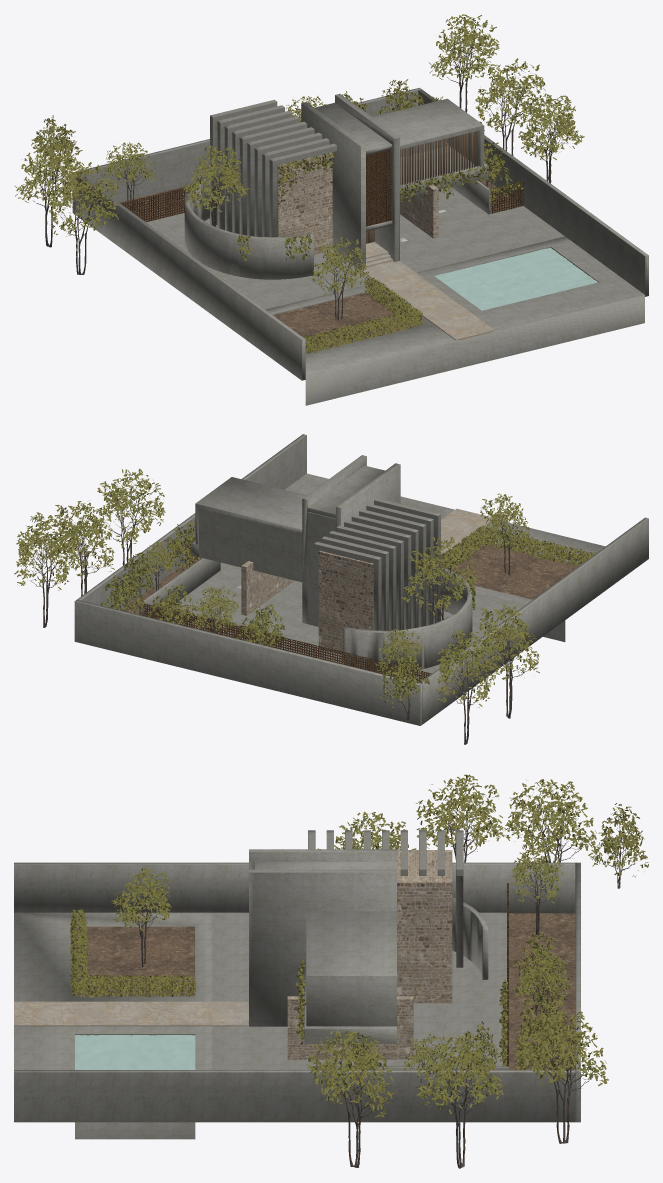
File: villa-ring.glb
3 views of the same model, one above another, from view 1: azimuth 30°, elevation 25°; view 2: azimuth 150°, elevation 25°; view 3: azimuth 270°, elevation 25° (orthographic). The views are drawn at different scales.
Parts seen in each view (by area): view 1: Layer:max10, Plane001, Shape020, Shape024, Layer:max01, Plane002, Layer:max05, Layer:max07, Object042, Prunus maritima_1_vray011, Prunus maritima_1_vray004, Prunus maritima_1_vray005 (+28 smaller); view 2: Layer:max10, Shape020, Layer:max01, Shape002, Layer:max05, Shape024, Object042, Layer:max07, Plane001, Prunus maritima_1_vray003, Prunus maritima_1_vray005, Prunus maritima_1_vray002 (+29 smaller); view 3: Layer:max10, Plane001, Shape024, Shape020, Layer:max07, Layer:max05, Line001, Object042, Prunus maritima_1_vray005, Prunus maritima_1_vray009, Prunus maritima_1_vray004, Plane002 (+23 smaller).
Boxes of the visible parts, bbox=[...] form: Layer:max10: bbox=[72, 87, 648, 380]; Plane001: bbox=[266, 236, 644, 405]; Shape020: bbox=[146, 187, 564, 309]; Shape024: bbox=[301, 94, 399, 270]; Layer:max01: bbox=[184, 176, 313, 279]; Plane002: bbox=[434, 247, 597, 310]; Layer:max05: bbox=[277, 152, 332, 255]; Layer:max07: bbox=[372, 98, 484, 166]; Object042: bbox=[273, 291, 416, 353]; Prunus maritima_1_vray011: bbox=[48, 162, 118, 274]; Prunus maritima_1_vray004: bbox=[475, 58, 545, 155]; Prunus maritima_1_vray005: bbox=[428, 14, 499, 112]; Layer:max10: bbox=[74, 434, 648, 725]; Shape020: bbox=[157, 556, 525, 681]; Layer:max01: bbox=[343, 566, 472, 672]; Shape002: bbox=[199, 508, 302, 582]; Layer:max05: bbox=[318, 550, 373, 653]; Shape024: bbox=[302, 455, 400, 623]; Object042: bbox=[450, 543, 579, 599]; Layer:max07: bbox=[195, 477, 306, 544]; Plane001: bbox=[285, 473, 605, 641]; Prunus maritima_1_vray003: bbox=[435, 629, 500, 744]; Prunus maritima_1_vray005: bbox=[14, 512, 79, 627]; Prunus maritima_1_vray002: bbox=[401, 536, 477, 622]; Layer:max10: bbox=[14, 862, 580, 1122]; Plane001: bbox=[14, 912, 211, 1139]; Shape024: bbox=[249, 849, 396, 1026]; Shape020: bbox=[212, 912, 506, 1069]; Layer:max07: bbox=[306, 911, 396, 1026]; Layer:max05: bbox=[397, 850, 452, 1003]; Line001: bbox=[509, 913, 575, 1069]; Object042: bbox=[75, 926, 194, 996]; Prunus maritima_1_vray005: bbox=[513, 1009, 608, 1143]; Prunus maritima_1_vray009: bbox=[306, 1030, 397, 1167]; Prunus maritima_1_vray004: bbox=[415, 1032, 503, 1168]; Plane002: bbox=[75, 1035, 195, 1069].
Bounding box in the file's own units: 37.88 × 11.27 × 34.32.
11 materials, 9 textured.
